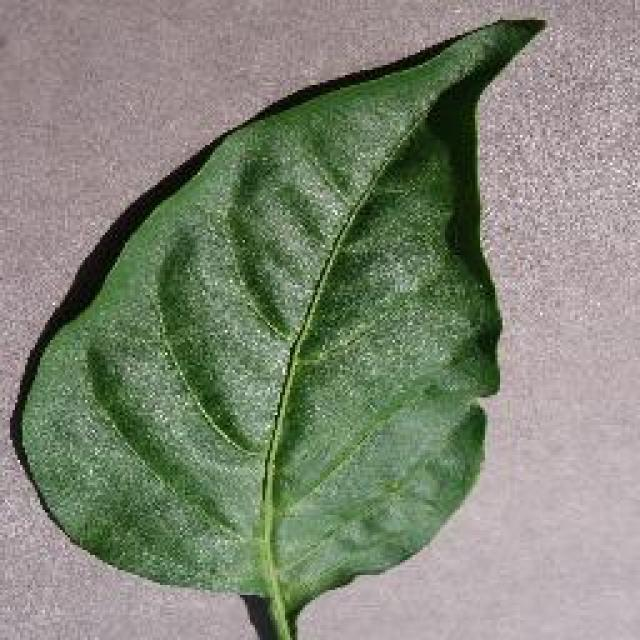Leaf: (22, 18, 552, 608)
